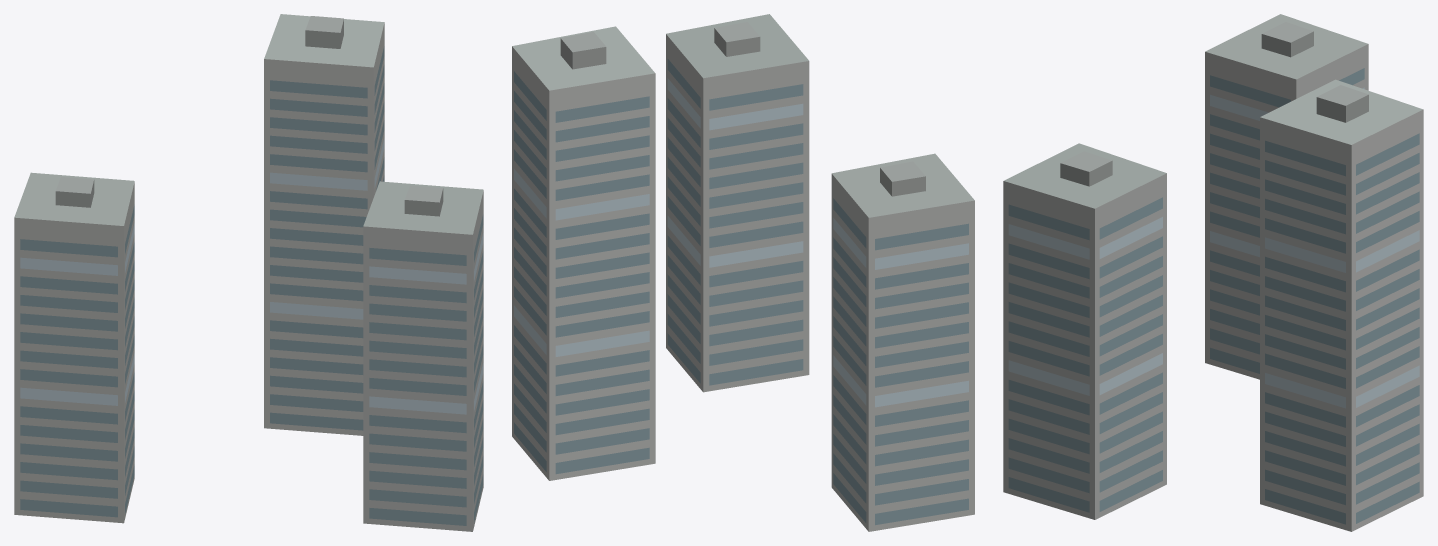
File: apt-a12003001.glb
3 views of the same model, side by side, from view 1: azimuth 30°, elevation 25°; view 2: azimuth 150°, elevation 25°; view 3: azimuth 270°, elevation 25° (orthographic). The views are drawn at different scales.
Visible parts, largest first — view 1: apt-a12003001; view 2: apt-a12003001; view 3: apt-a12003001.
Boxes of the visible parts, left/top/right/bottom form: apt-a12003001: left=14, top=14, right=483, bottom=531; apt-a12003001: left=512, top=14, right=974, bottom=531; apt-a12003001: left=1003, top=14, right=1423, bottom=531.
Bounding box in the file's own units: 62.54 × 57 × 53.71.
